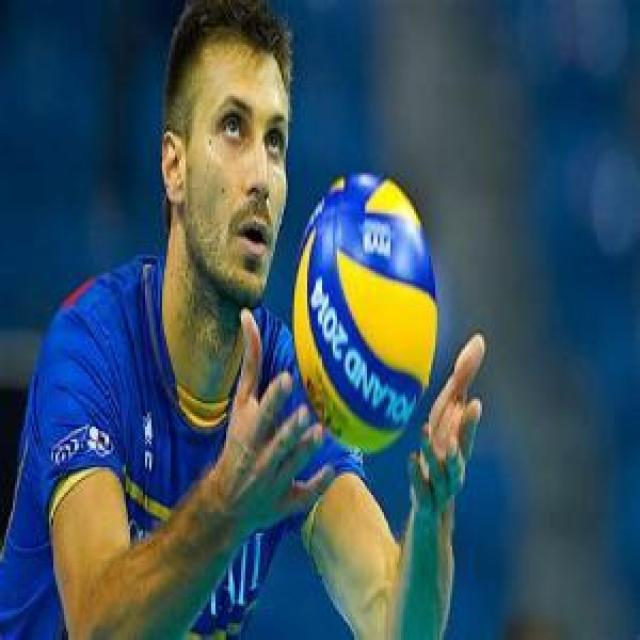volleyball: (292, 173, 438, 454)
